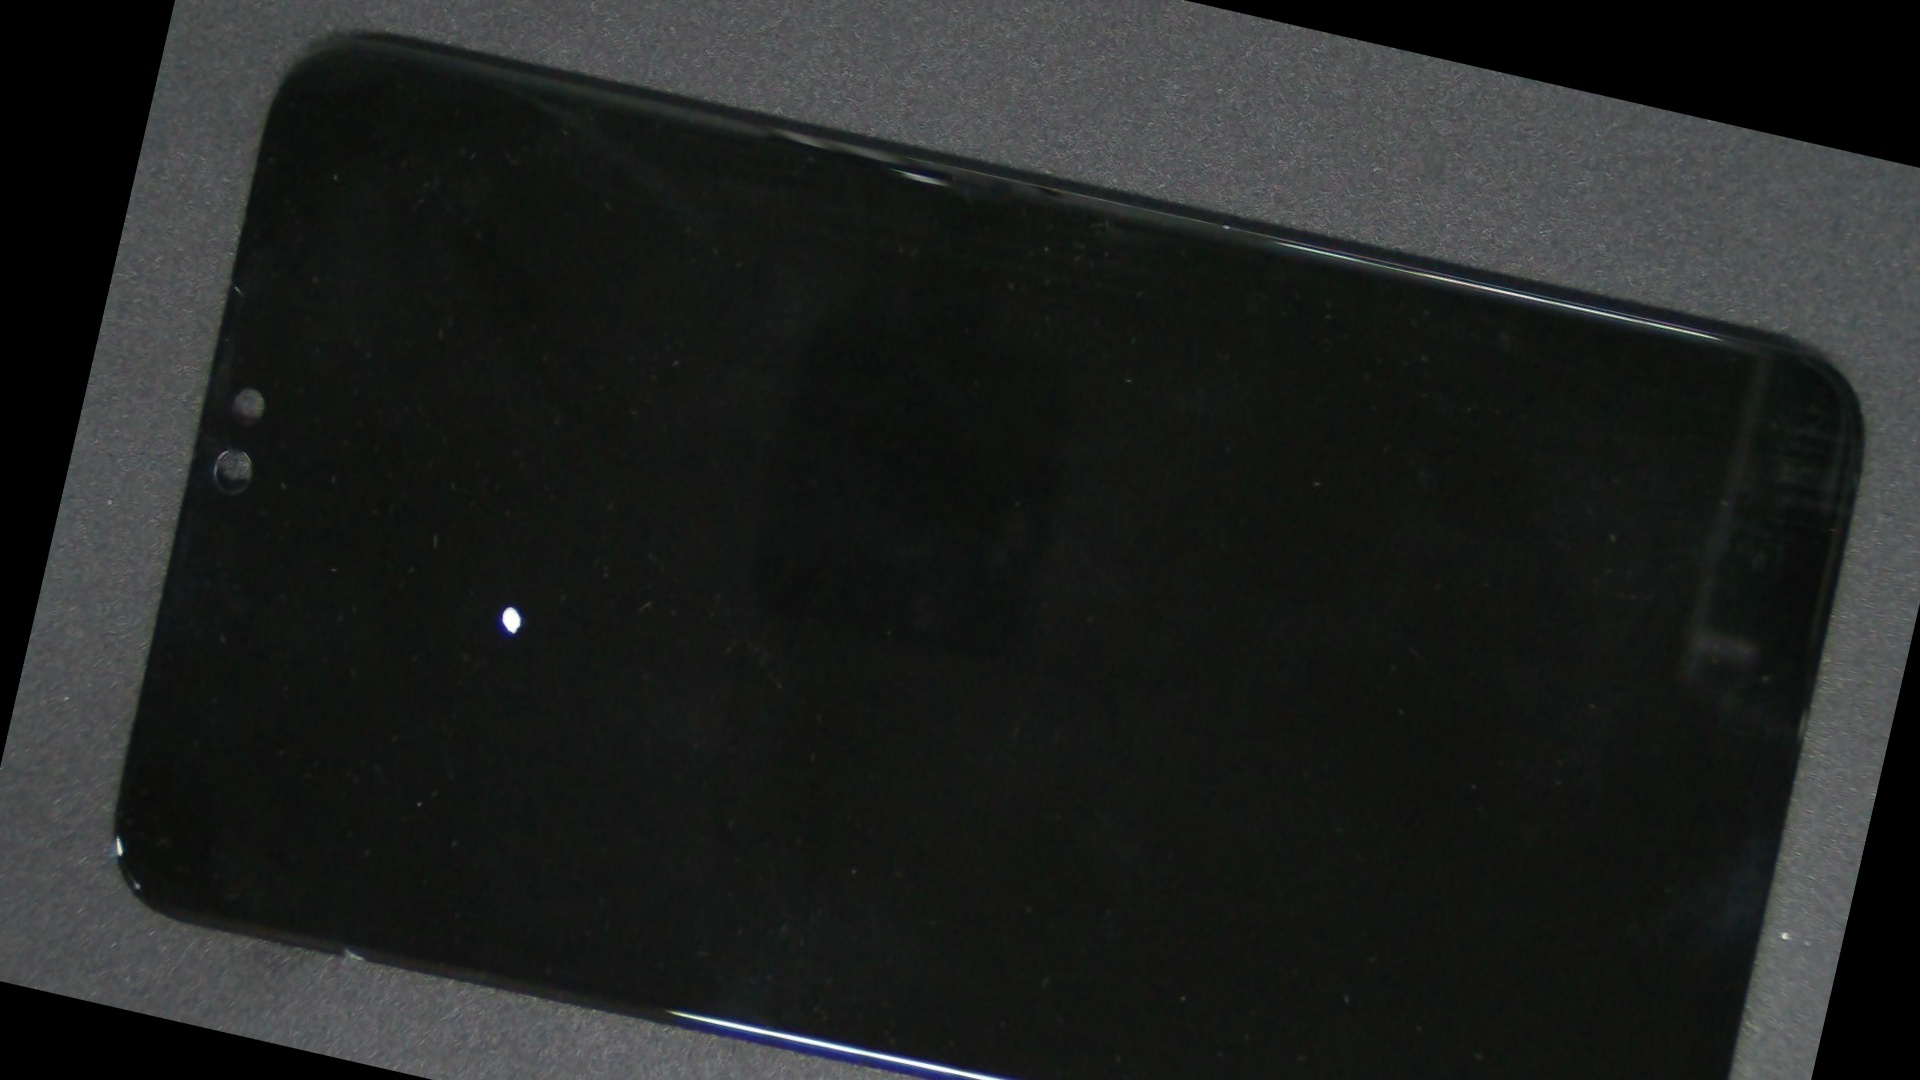oil: (203, 193, 816, 1017)
